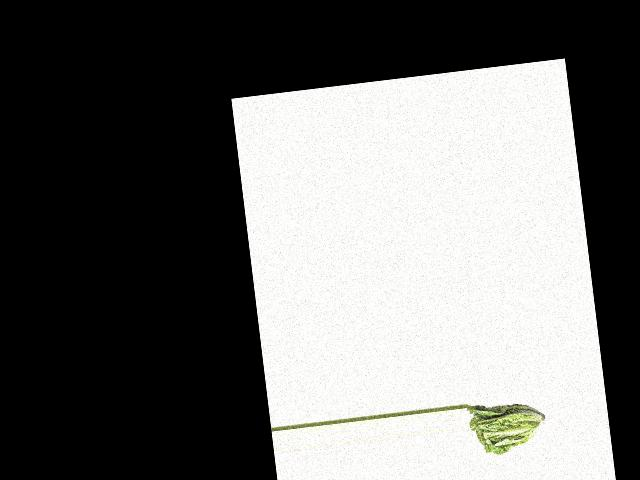lettuce: (467, 397, 547, 460)
